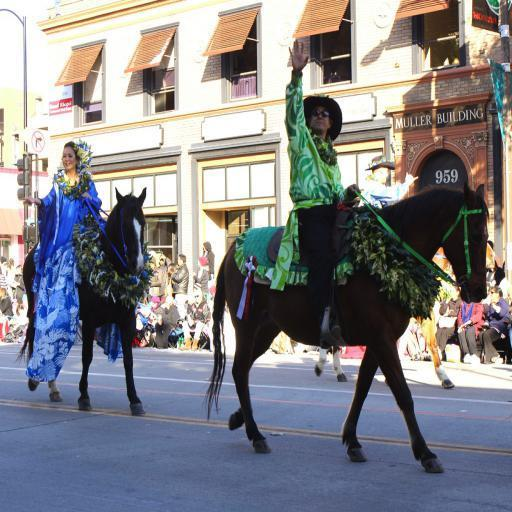horse: (202, 180, 492, 473), (14, 186, 148, 418)
